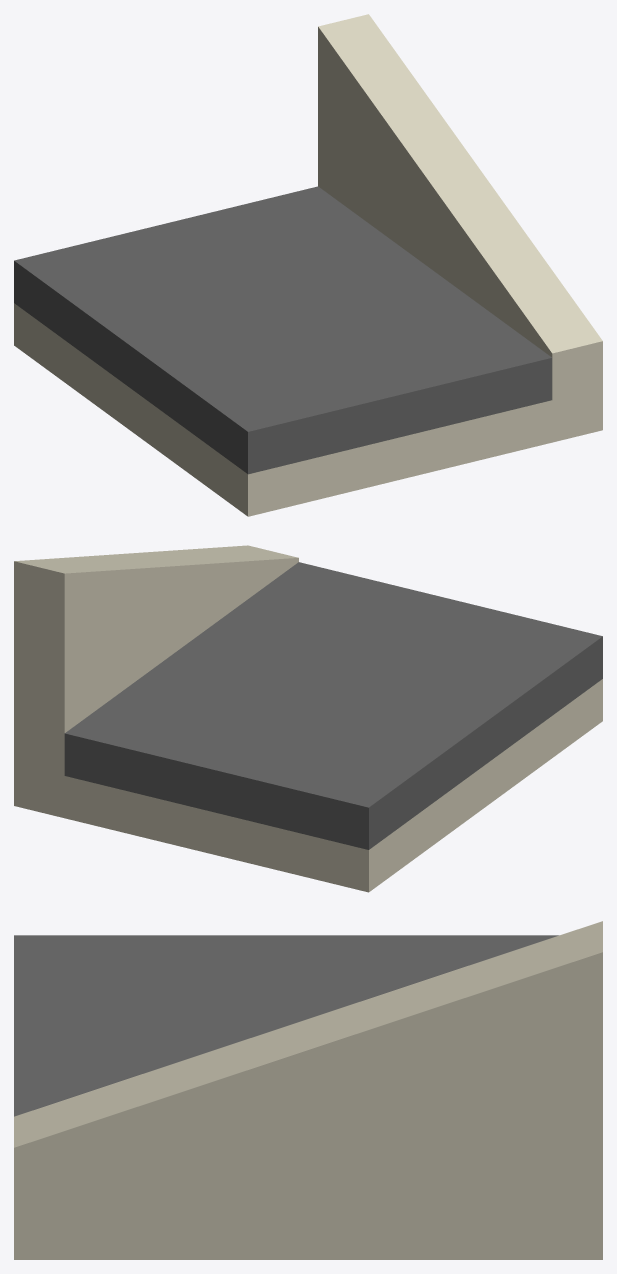
File: tile260.fbx
3 renders of one model, top to bottom at view 1: azimuth 30°, elevation 25°; view 2: azimuth 150°, elevation 25°; view 3: azimuth 270°, elevation 25°, orthographic. The views are drawn at different scales.
Visible parts, largest first — view 1: tile260; view 2: tile260; view 3: tile260.
Boxes of the visible parts, bbox=[...] form: tile260: bbox=[14, 14, 602, 516]; tile260: bbox=[14, 545, 602, 892]; tile260: bbox=[14, 921, 602, 1259].
Size of the model in its own units: 8.75 by 5.77 by 10.
